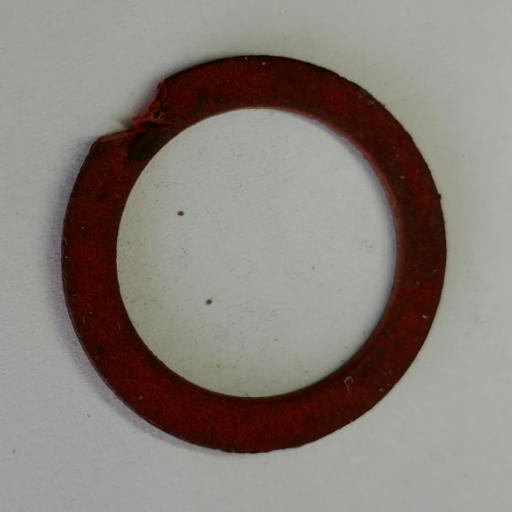defect: (94, 78, 169, 144)
